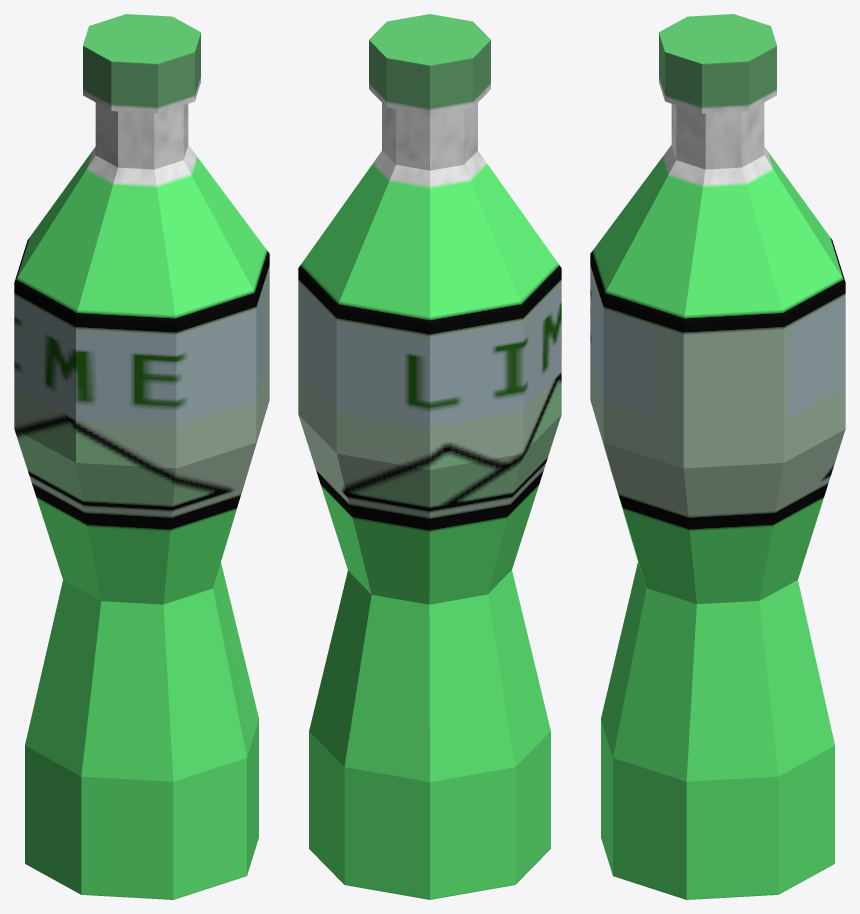
The model's file is bottle 3.FBX.
3 views of the same model, side by side, from view 1: azimuth 30°, elevation 25°; view 2: azimuth 150°, elevation 25°; view 3: azimuth 270°, elevation 25° (orthographic).
Visible parts, largest first — view 1: 礦泉水009; view 2: 礦泉水009; view 3: 礦泉水009.
Part boxes in pixels (x1,y1,x2,y2): 礦泉水009: [14, 14, 269, 899]; 礦泉水009: [298, 14, 561, 899]; 礦泉水009: [590, 14, 845, 899].
Bounding box in the file's own units: 37.03 × 130 × 37.03.
1 material, 1 textured.
